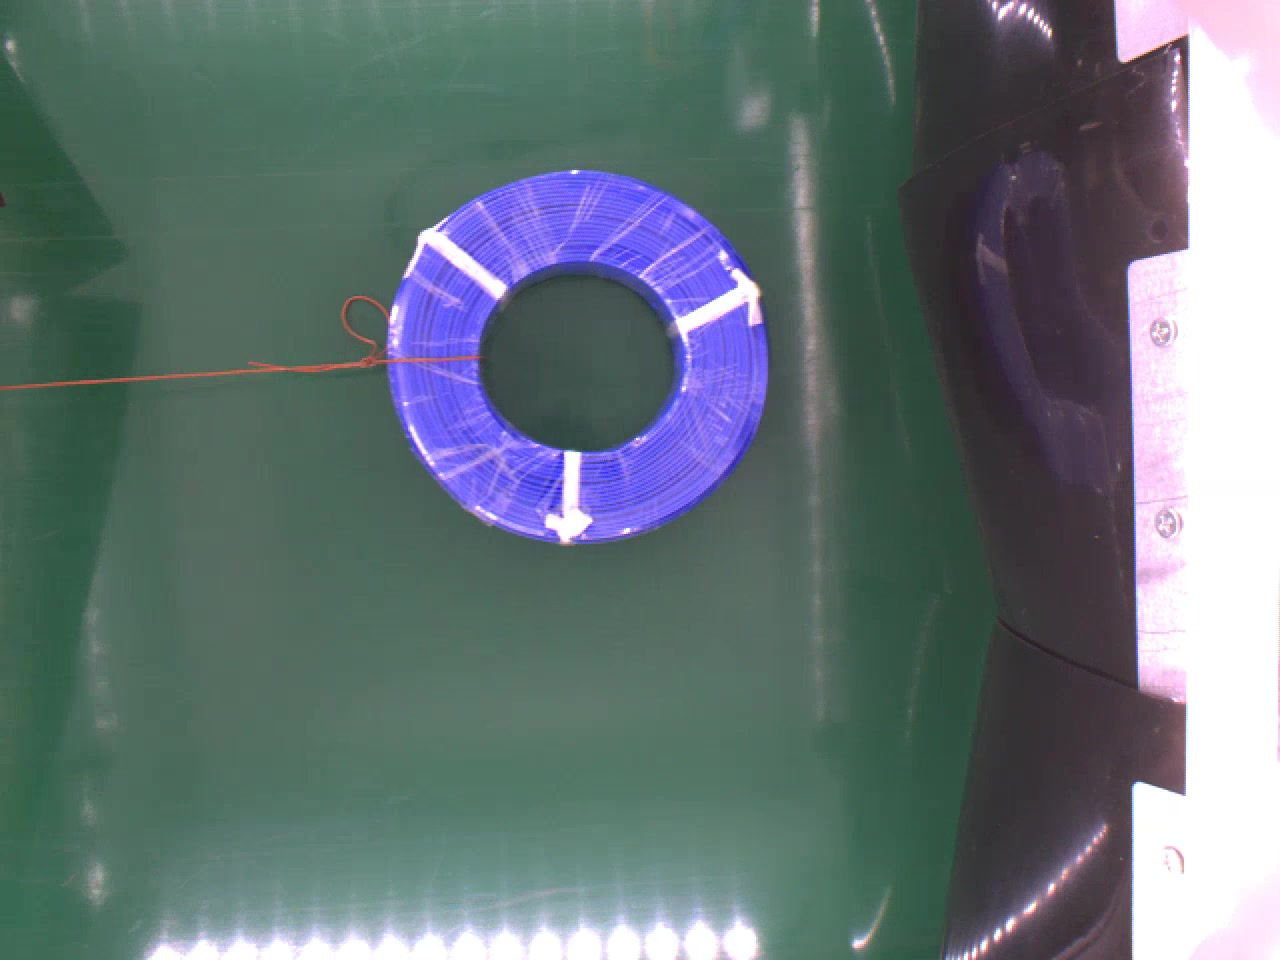blue: (388, 163, 771, 544)
